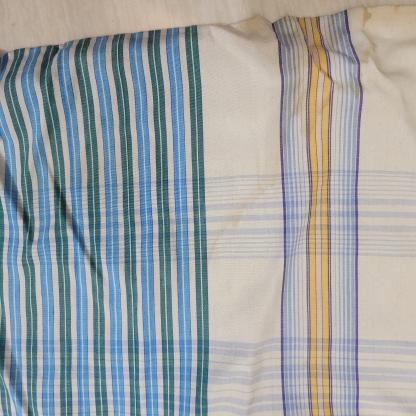spot: (253, 13, 377, 58), (285, 56, 366, 98), (288, 96, 330, 134), (263, 147, 280, 187), (226, 202, 243, 228), (251, 177, 268, 198), (206, 229, 217, 261), (240, 194, 256, 210), (216, 215, 230, 232)
